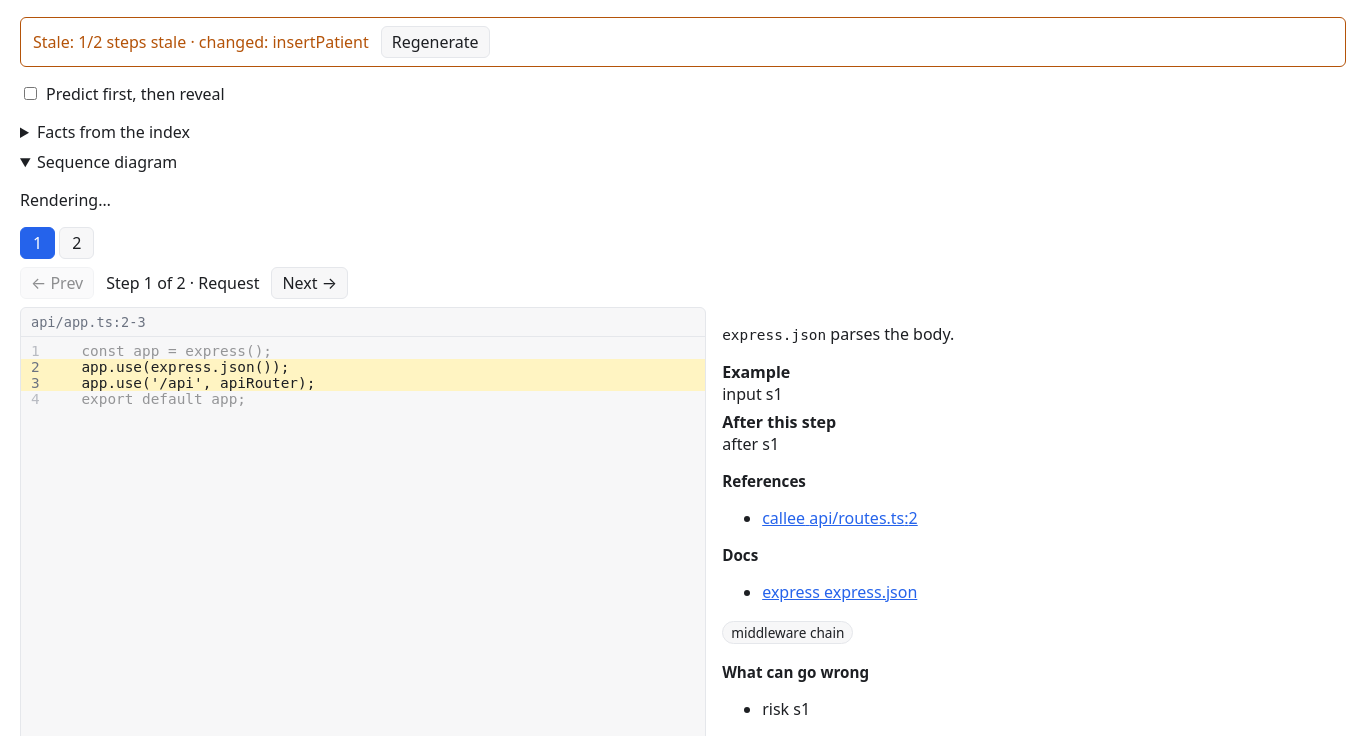
Scenario: walkthrough reader › keeps the reader when regenerating fails, and shows why in the banner
This screenshot has width=1366, height=736.
(page scrolled)
Click the button "Regenerate": point(435, 42) [381,26,490,58]
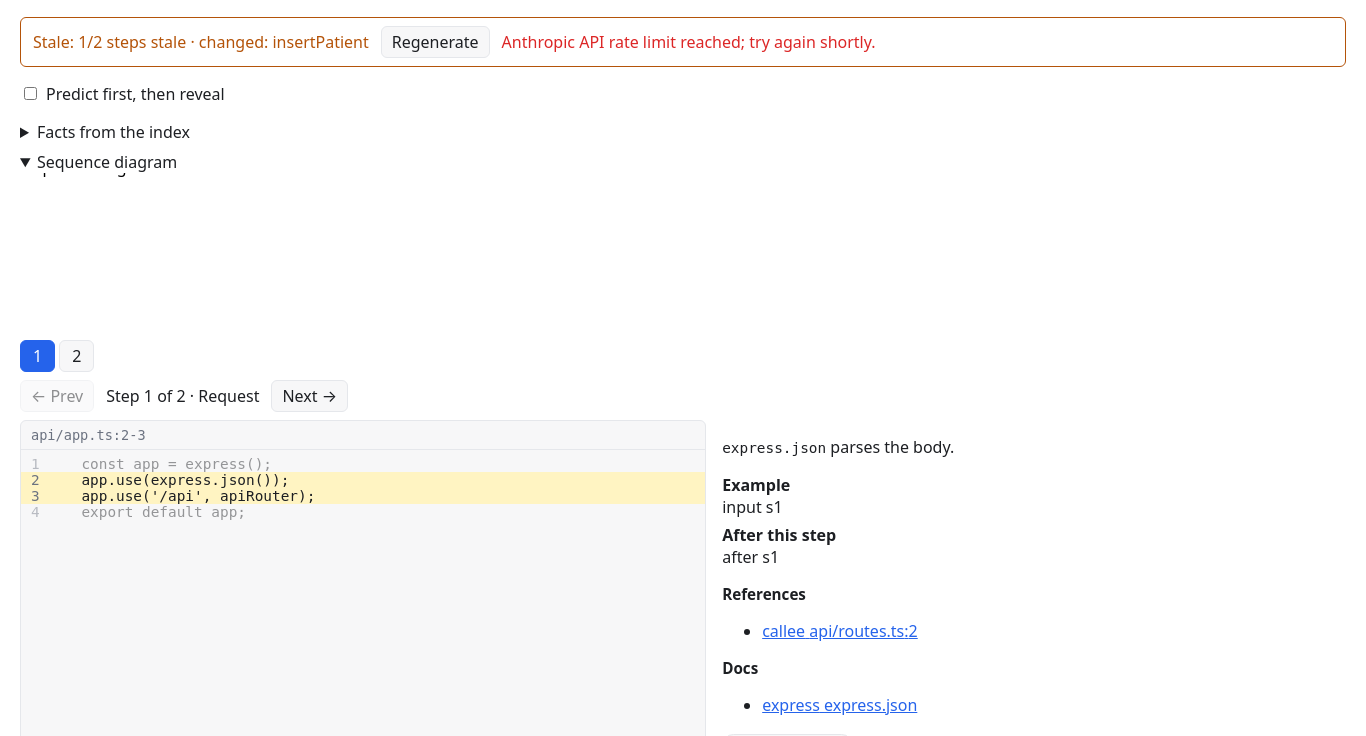
Expected: the text "Step 1 of 2 · Request" is shown, [106,385,259,407]
Result: the message reads "Anthropic API rate limit reached; try again shortly." at [502,31,876,53]
